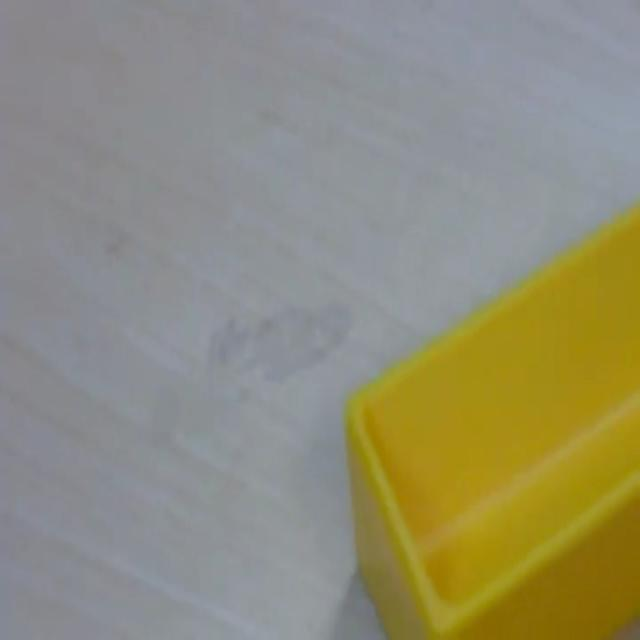yellow_block: (344, 199, 638, 636)
